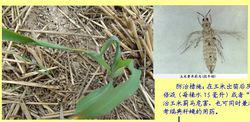pest: (198, 15, 219, 73)
